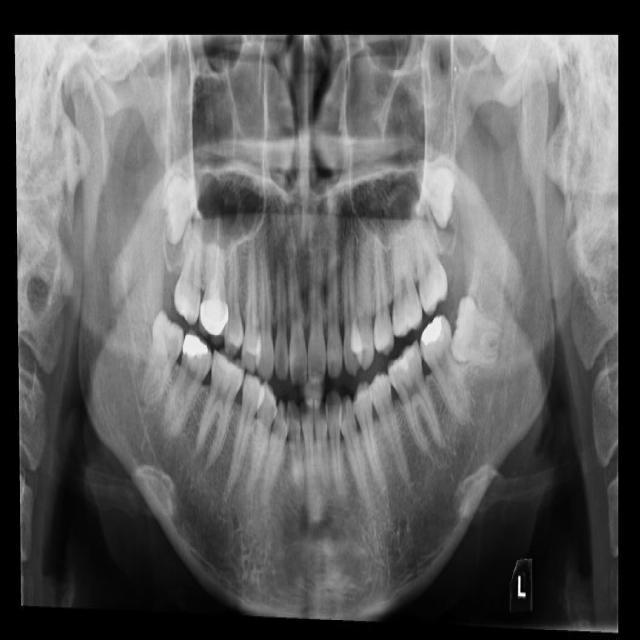3M ESPE Implant: (143, 148, 219, 248)
52: (167, 327, 224, 382), (385, 340, 424, 399), (419, 313, 454, 376), (210, 345, 247, 403), (198, 298, 229, 346)
73: (201, 207, 234, 304)
BioHorizons Implant: (405, 188, 452, 316)
BioLife Implant: (410, 151, 472, 232)
Biomet 3i Implant: (448, 294, 508, 368)
Blue Sky Bio Implant: (412, 312, 479, 429)
Caries: (173, 208, 204, 326)
Implant: (157, 328, 220, 445)
Keystone Dental Implant: (136, 307, 189, 411)
